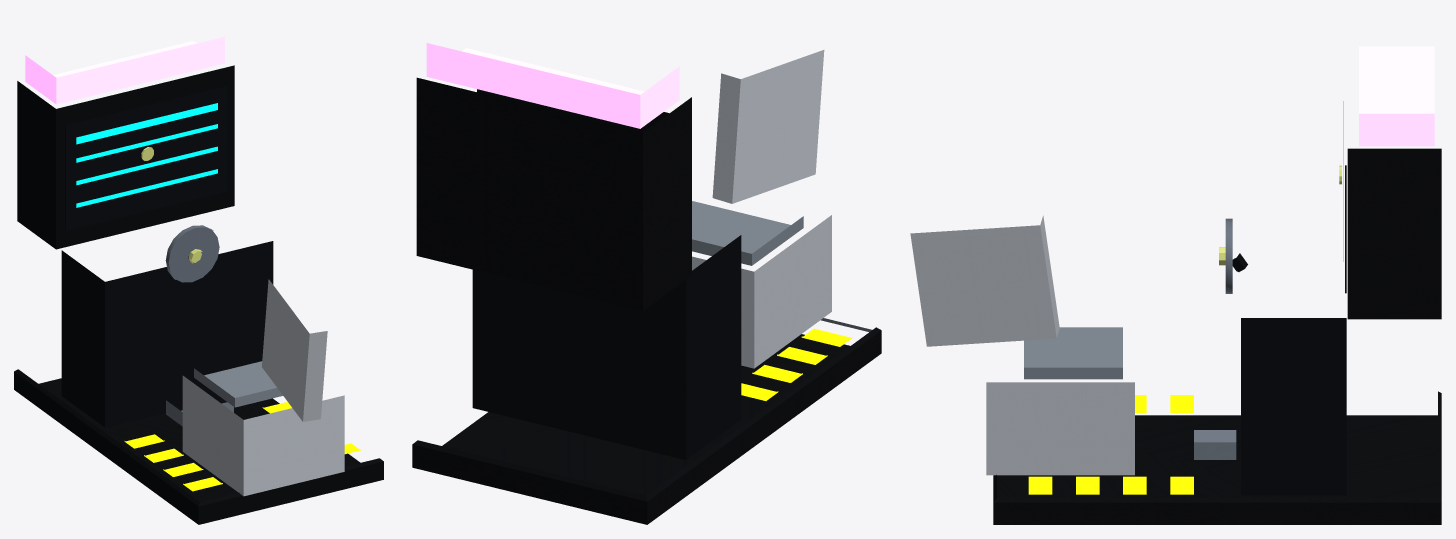
The model's file is tt_arc_racer.glb.
3 views of the same model, side by side, from view 1: azimuth 30°, elevation 25°; view 2: azimuth 150°, elevation 25°; view 3: azimuth 270°, elevation 25° (orthographic). The views are drawn at different scales.
Parts seen in each view (by area): view 1: Dash, Screen_Plate, Screen_Housing, Racer_Base, Seat_Shell, Racer_Marquee, Seat_Back, Scr_Art, Seat_Cushion, Wheel, Track_Stripes; view 2: Screen_Housing, Dash, Racer_Base, Seat_Back, Racer_Marquee, Seat_Shell, Seat_Cushion, Track_Stripes, Screen_Plate; view 3: Racer_Base, Dash, Screen_Housing, Seat_Back, Seat_Shell, Racer_Marquee, Seat_Cushion, Track_Stripes, Pedals, Wheel.
Boxes of the visible parts, x1=… form: Dash: x1=61, y1=241, x2=273, y2=427; Screen_Plate: x1=65, y1=86, x2=227, y2=230; Screen_Housing: x1=17, y1=65, x2=234, y2=249; Racer_Base: x1=14, y1=369, x2=383, y2=524; Seat_Shell: x1=182, y1=375, x2=344, y2=496; Racer_Marquee: x1=25, y1=37, x2=224, y2=104; Seat_Back: x1=262, y1=279, x2=327, y2=421; Scr_Art: x1=76, y1=103, x2=217, y2=207; Seat_Cushion: x1=194, y1=361, x2=282, y2=407; Wheel: x1=165, y1=225, x2=219, y2=282; Track_Stripes: x1=124, y1=402, x2=360, y2=491; Screen_Housing: x1=416, y1=77, x2=691, y2=310; Dash: x1=472, y1=235, x2=741, y2=459; Racer_Base: x1=412, y1=327, x2=881, y2=524; Seat_Back: x1=712, y1=50, x2=824, y2=203; Racer_Marquee: x1=426, y1=43, x2=679, y2=128; Seat_Shell: x1=692, y1=215, x2=831, y2=368; Seat_Cushion: x1=692, y1=201, x2=803, y2=265; Track_Stripes: x1=741, y1=328, x2=852, y2=400; Screen_Plate: x1=477, y1=89, x2=669, y2=132; Racer_Base: x1=993, y1=391, x2=1441, y2=524; Dash: x1=1241, y1=318, x2=1346, y2=495; Screen_Housing: x1=1347, y1=148, x2=1441, y2=319; Seat_Back: x1=910, y1=215, x2=1059, y2=346; Seat_Shell: x1=986, y1=382, x2=1134, y2=475; Racer_Marquee: x1=1359, y1=46, x2=1434, y2=146; Seat_Cushion: x1=1024, y1=327, x2=1122, y2=379; Track_Stripes: x1=1028, y1=395, x2=1193, y2=494; Pedals: x1=1194, y1=430, x2=1236, y2=459; Wheel: x1=1225, y1=218, x2=1232, y2=293.
Size of what is drawn, in the model's own units: 1.1 by 1.9 by 2.25.
Materials: 10 (5 with a texture image).
